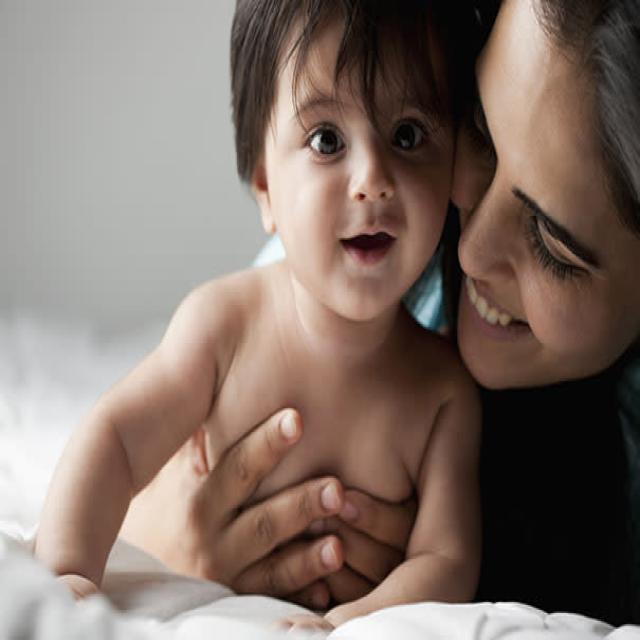non-dog: (124, 1, 640, 625), (34, 1, 497, 638)
